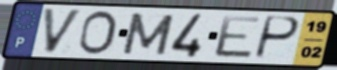4: (168, 12, 205, 59)
E: (212, 14, 263, 60)
M: (120, 11, 177, 57)
O: (75, 9, 119, 56)
P: (251, 14, 302, 61)
V: (41, 7, 85, 56)
